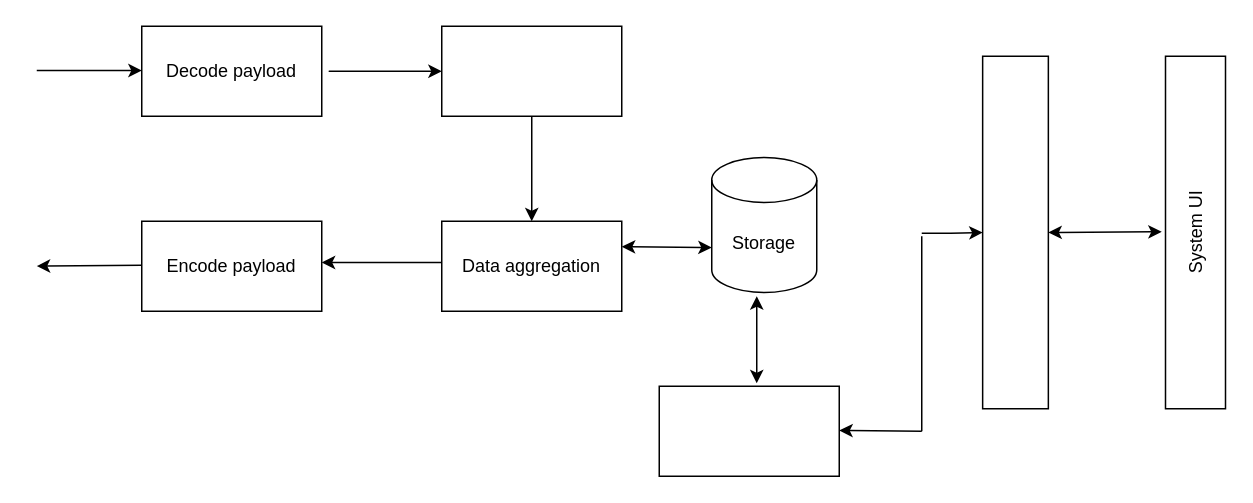
Image size: 1253x503. Some labels were removed from this diagram. The shapes that lost their labels are listed below. From the top down, each one's centre as x and y in pixels, then its label:
At (x=531, y=70): "Metadata Enhancement".
At (x=1014, y=232): "API".
At (x=748, y=430): "Analytics".
